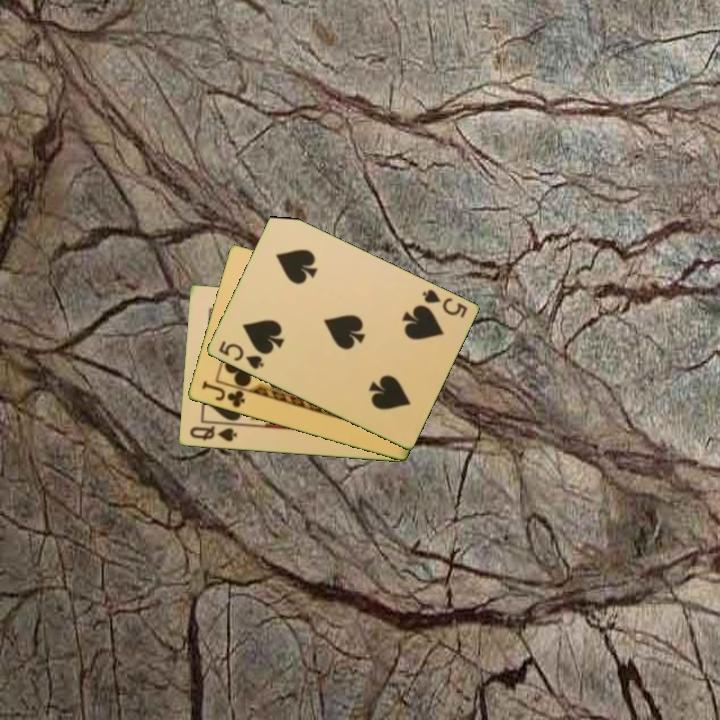5s: (215, 337, 267, 372), (418, 286, 470, 321)
Jc: (198, 378, 248, 411)
Qs: (186, 422, 240, 445)
